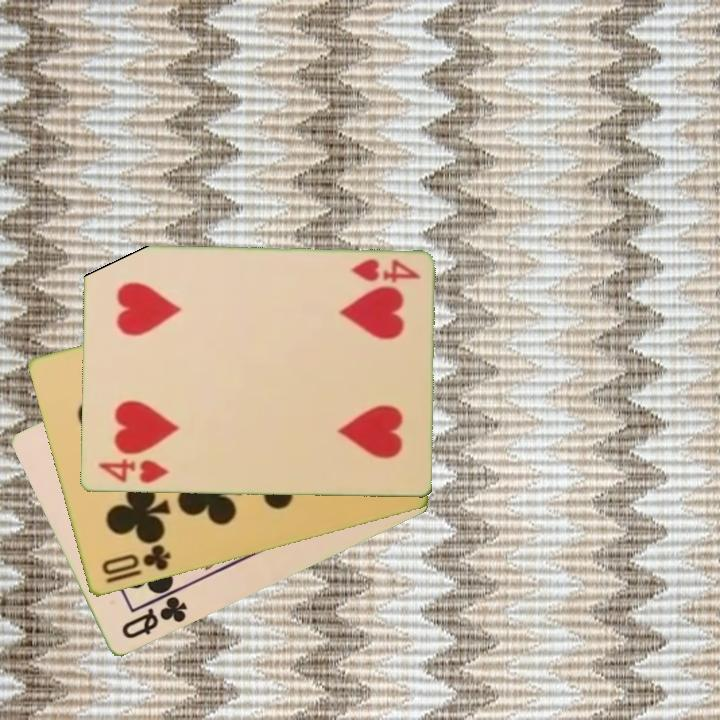10c: (98, 541, 174, 587)
4h: (94, 455, 171, 487), (347, 256, 423, 286)
Qc: (118, 593, 191, 643)
